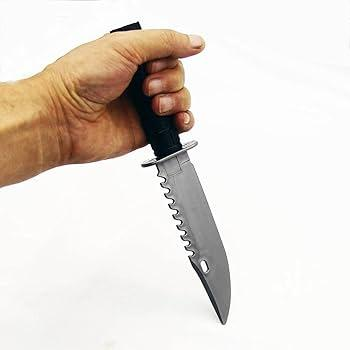Knife: (0, 28, 205, 187), (55, 29, 205, 165), (144, 139, 231, 327)
